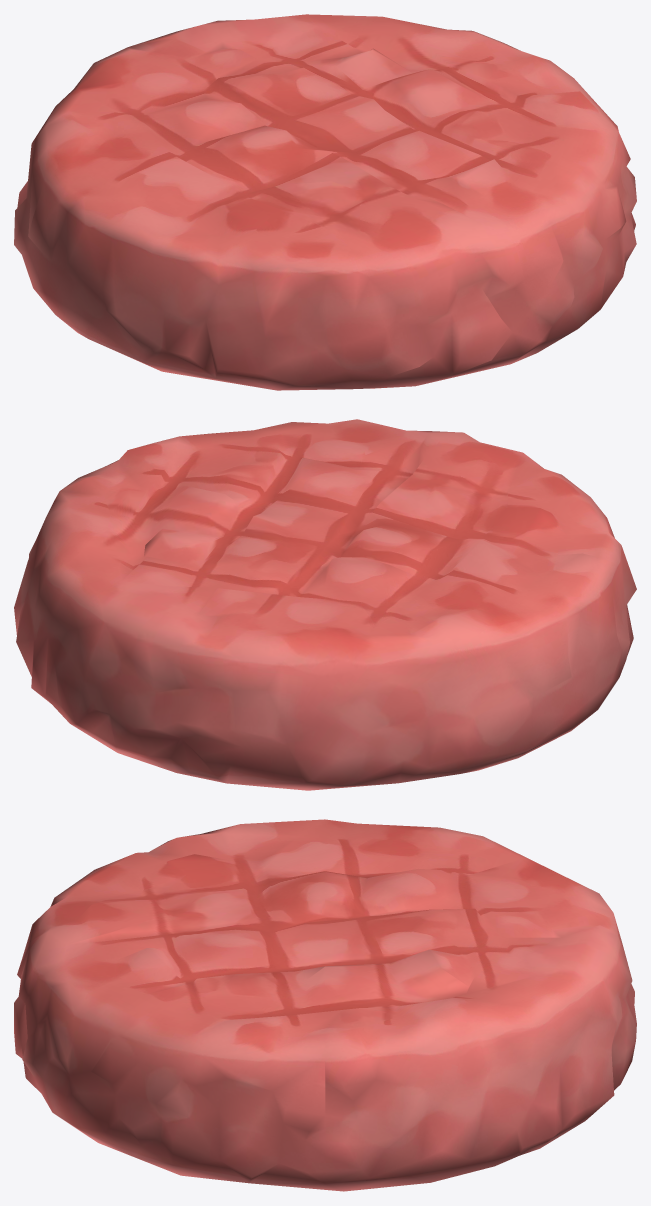
File: MeatPattyRaw.fbx
3 views of the same model, one above another, from view 1: azimuth 30°, elevation 25°; view 2: azimuth 150°, elevation 25°; view 3: azimuth 270°, elevation 25° (orthographic).
Parts seen in each view (by area): view 1: tripo_node_3ae96364; view 2: tripo_node_3ae96364; view 3: tripo_node_3ae96364.
Boxes of the visible parts, x1,y1,x2,y2 form: tripo_node_3ae96364: (14,14,636,390); tripo_node_3ae96364: (14,419,636,790); tripo_node_3ae96364: (14,819,636,1191).
Size of the model in its own units: 0.9868 by 0.276 by 0.9993.
1 material, 1 textured.
